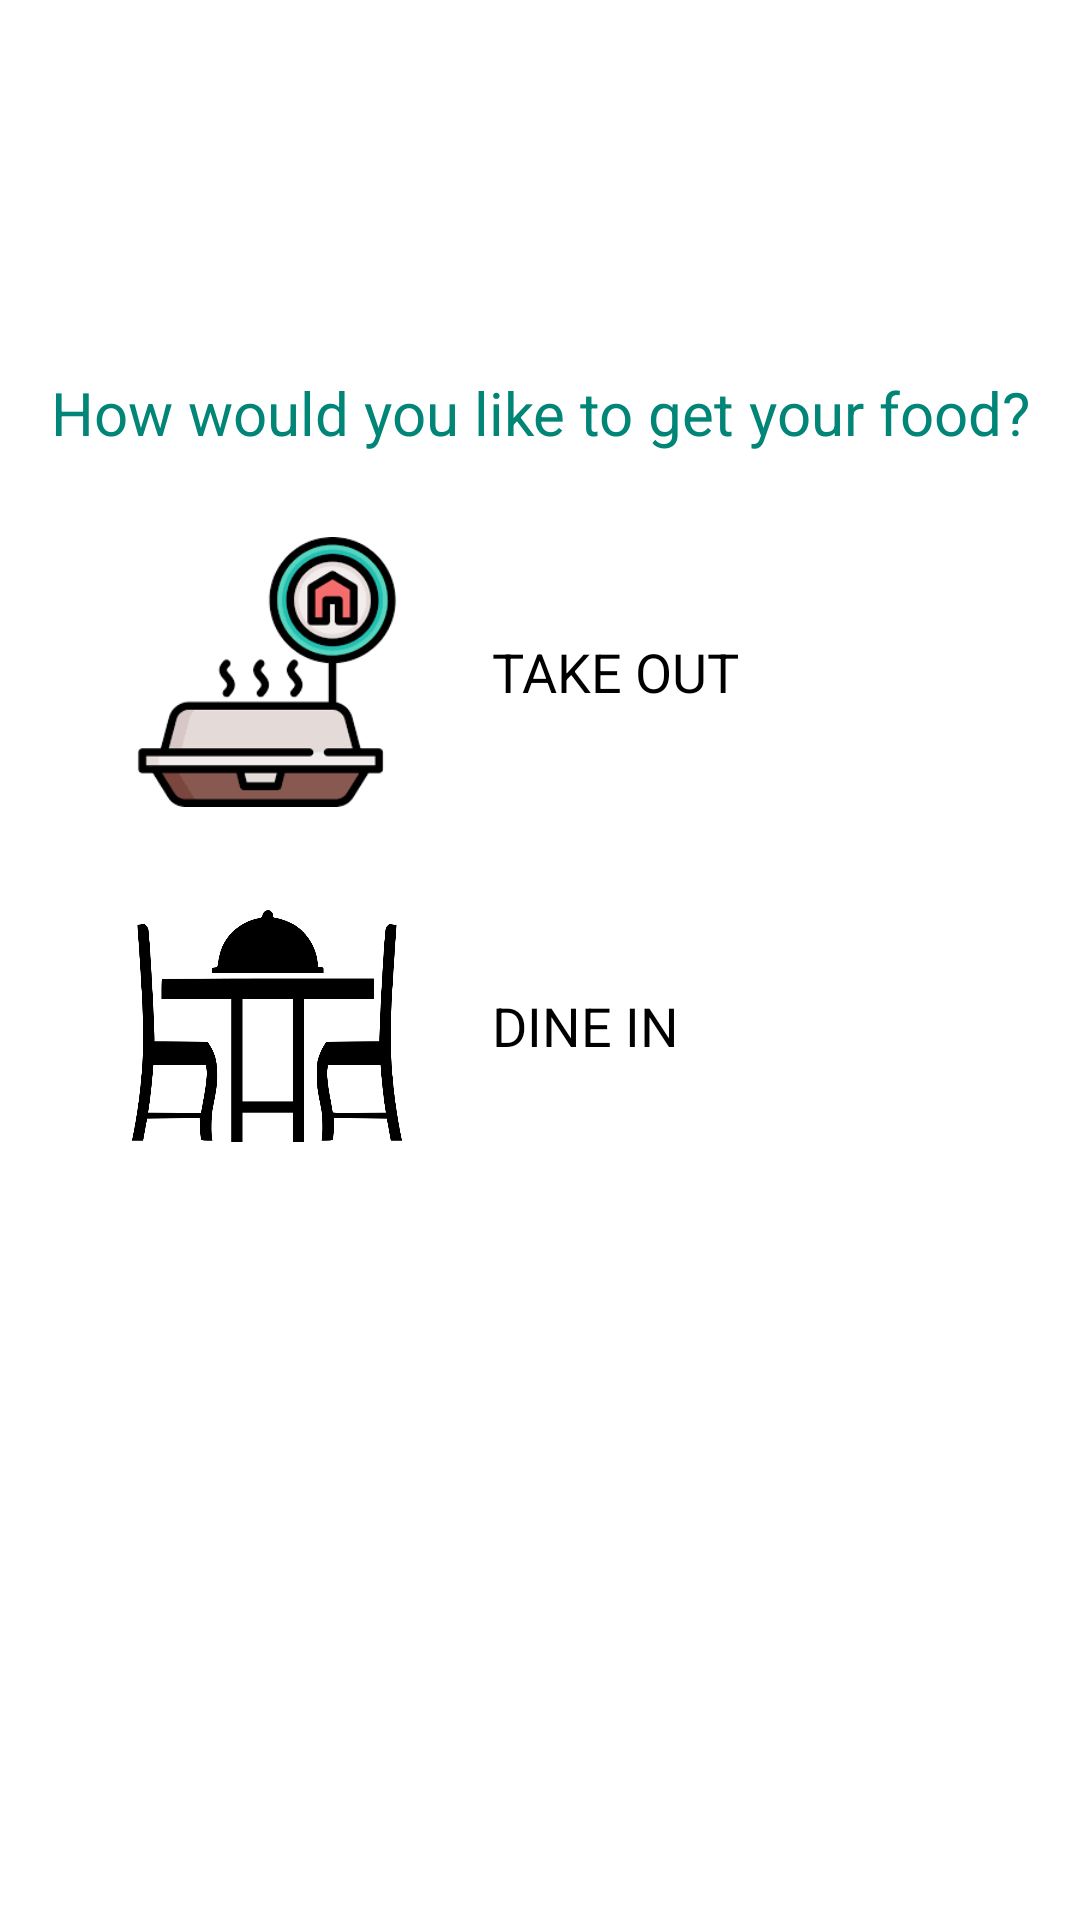

Named icons in this screenshot (1080 × 1920) and their centers, (x,y):
takeaway: (267,672)
